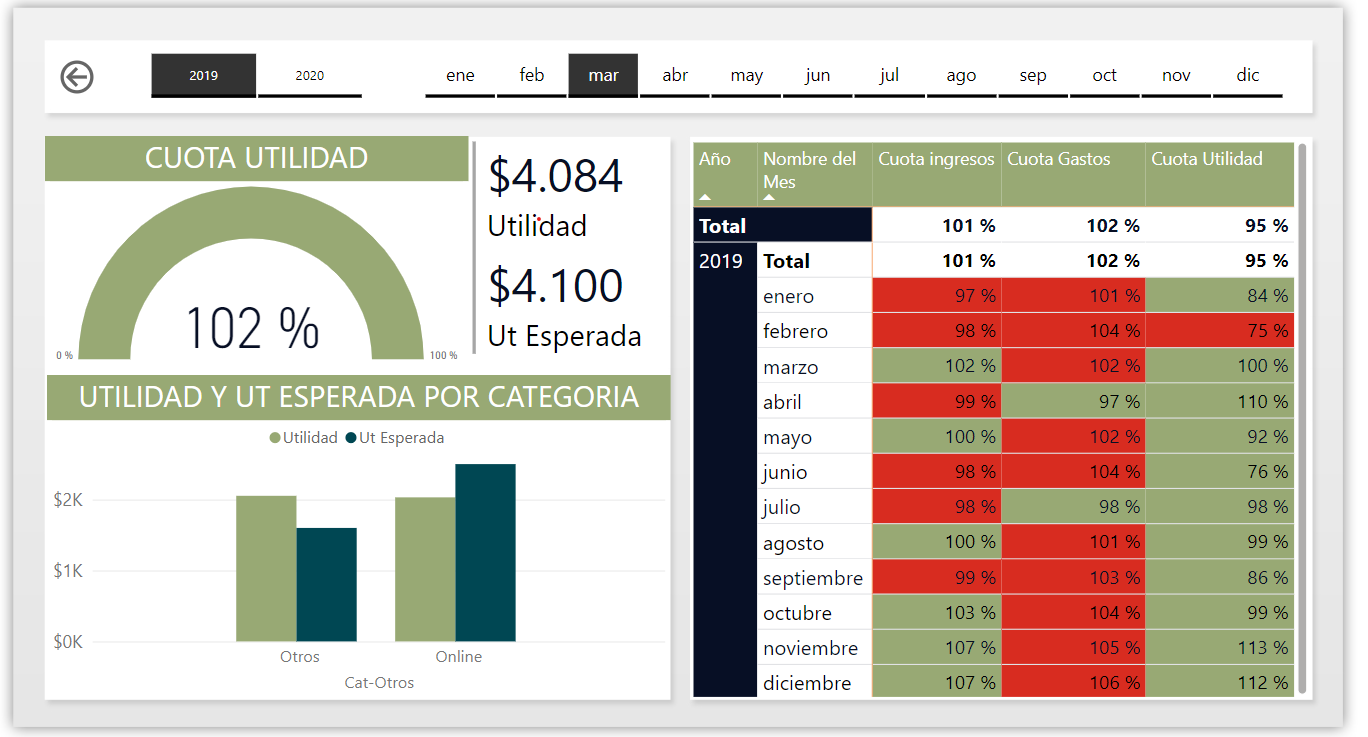

This screenshot's page, from the dashboard's own definition file:
{"tool":"powerbi","page":{"name":"Detalle de Utilidad","canvas":[1280,720],"ordinal":7},"visuals":[{"type":"image","box":[0,0,1280,720],"z":0},{"type":"slicer","fields":{"Values":["Calendarios.Fecha.Variation.Date Hierarchy.Year"]},"box":[136.7,66.7,241.1,54.4],"z":1000},{"type":"slicer","fields":{"Values":["Calendarios.Abv Mes"]},"box":[385.6,66.7,828.9,54.4],"z":2000},{"type":"actionButton","box":[74.4,74.4,47.8,40],"z":3000},{"type":"clusteredColumnChart","title":"UTILIDAD Y UT ESPERADA POR CATEGORIA","fields":{"Category":["Categoria.Cat-Otros"],"Y":["Medidas.Utilidad","Medidas.Ut Esperada"]},"box":[67.1,365.7,567.1,292.9],"z":4000},{"type":"pivotTable","fields":{"Rows":["Calendarios.Año","Calendarios.Nombre del Mes"],"Values":["Cuotas %.Cuota ingresos","Cuotas %.Cuota Gastos","Cuotas %.Cuota Utilidad"]},"box":[650,148.8,567.5,513.8],"z":5000},{"type":"multiRowCard","fields":{"Values":["Medidas.Utilidad","Medidas.Ut Esperada"]},"box":[449,148,186,217],"z":6000},{"type":"gauge","title":"CUOTA UTILIDAD","fields":{"Y":["Cuotas %.Cuota ingresos"]},"box":[65,148,385,218],"z":7000}]}

Visuals, with their boxes on the page's 1280x720 design canvas (x1, y1, x2, y2). These are canvas units, not pixel positions in the 1368x737 screenshot, which may show the page scaled, cropped or inside an application window:
image: 0:0:1280:720
slicer - Calendarios.Fecha.Variation.Date Hierarchy.Year: 137:67:378:121
slicer - Calendarios.Abv Mes: 386:67:1214:121
actionButton: 74:74:122:114
"UTILIDAD Y UT ESPERADA POR CATEGORIA" clusteredColumnChart: 67:366:634:659
pivotTable - Calendarios.Año x Calendarios.Nombre del Mes: 650:149:1218:663
multiRowCard - Medidas.Utilidad x Medidas.Ut Esperada: 449:148:635:365
"CUOTA UTILIDAD" gauge: 65:148:450:366
